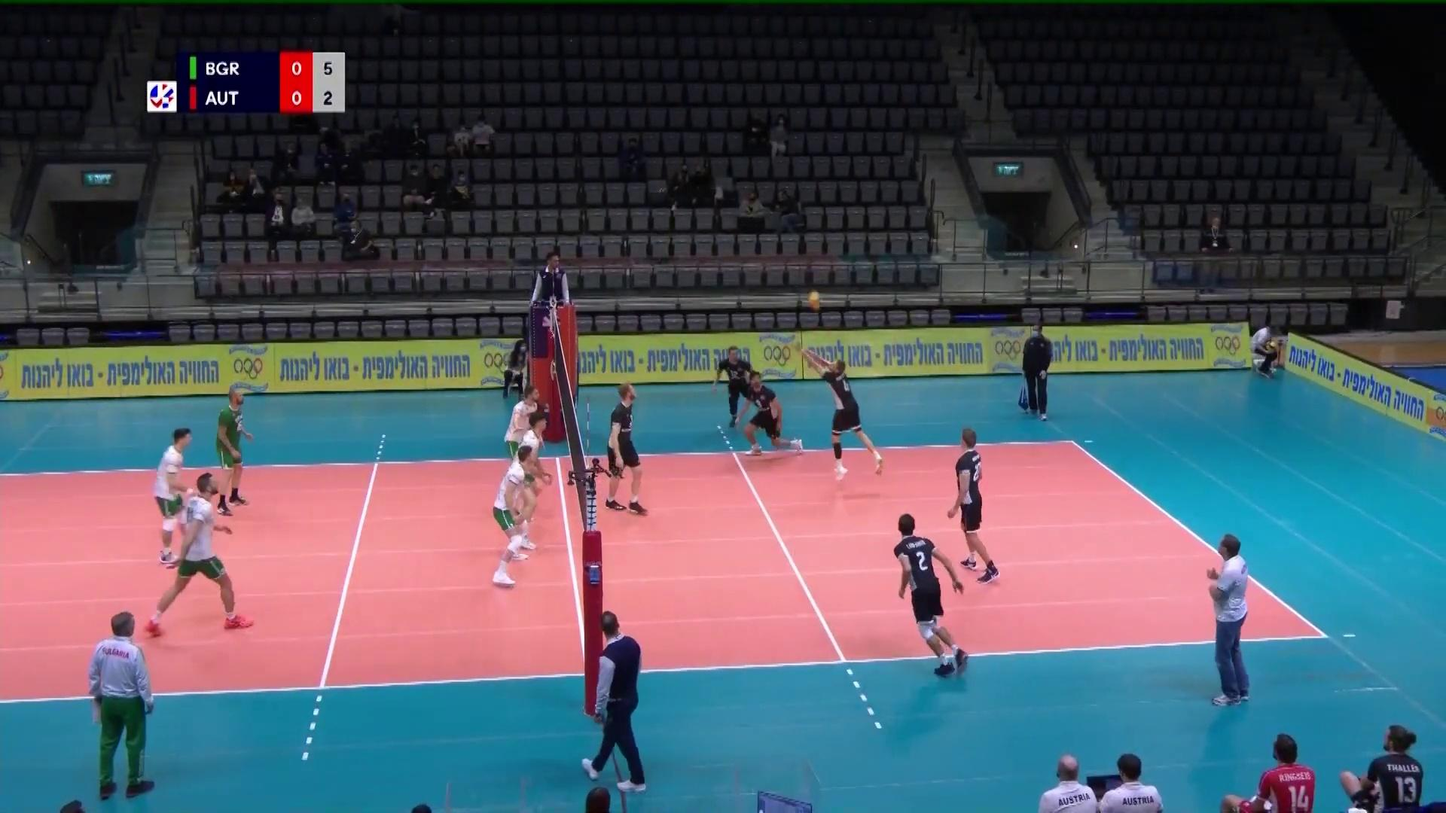ball: (807, 290, 822, 310)
